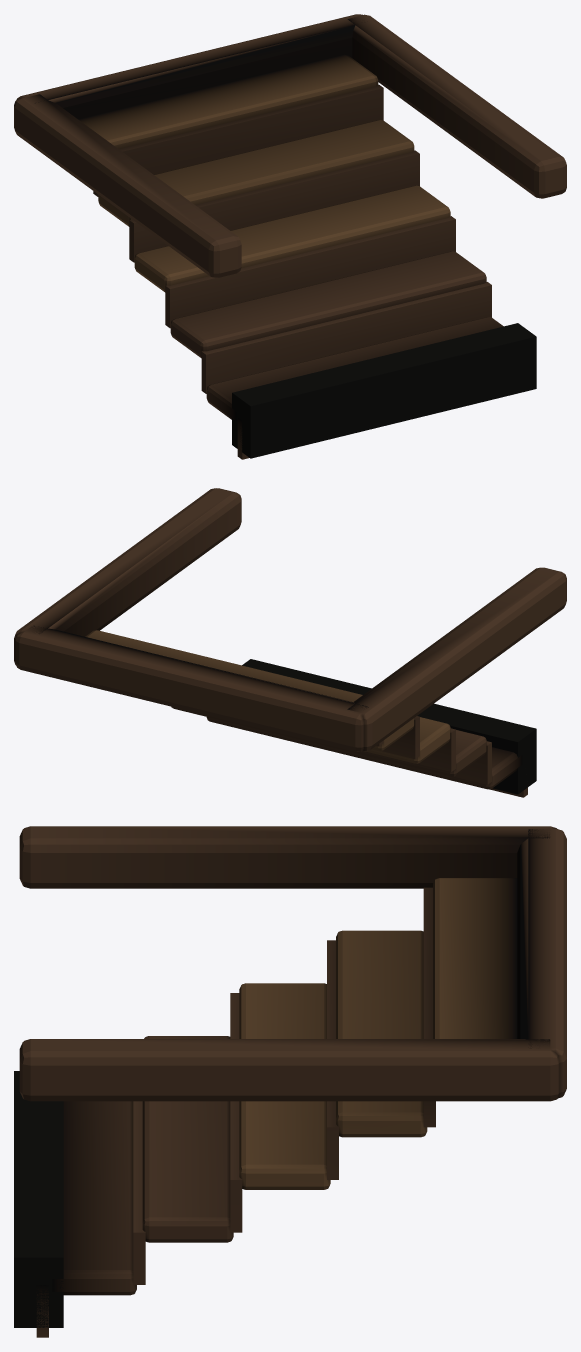
The model's file is stairs_region1.glb.
The picture shows the model from 3 angles, top to bottom: view 1: azimuth 30°, elevation 25°; view 2: azimuth 150°, elevation 25°; view 3: azimuth 270°, elevation 25°; orthographic projection. The views are drawn at different scales.
Visible parts, largest first — view 1: stairs_region1; view 2: stairs_region1; view 3: stairs_region1.
Boxes of the visible parts, left/top/right/bottom form: stairs_region1: left=14, top=14, right=566, bottom=459; stairs_region1: left=14, top=488, right=566, bottom=797; stairs_region1: left=14, top=826, right=566, bottom=1337.
Bounding box in the file's own units: 1 × 0.6095 × 1.
